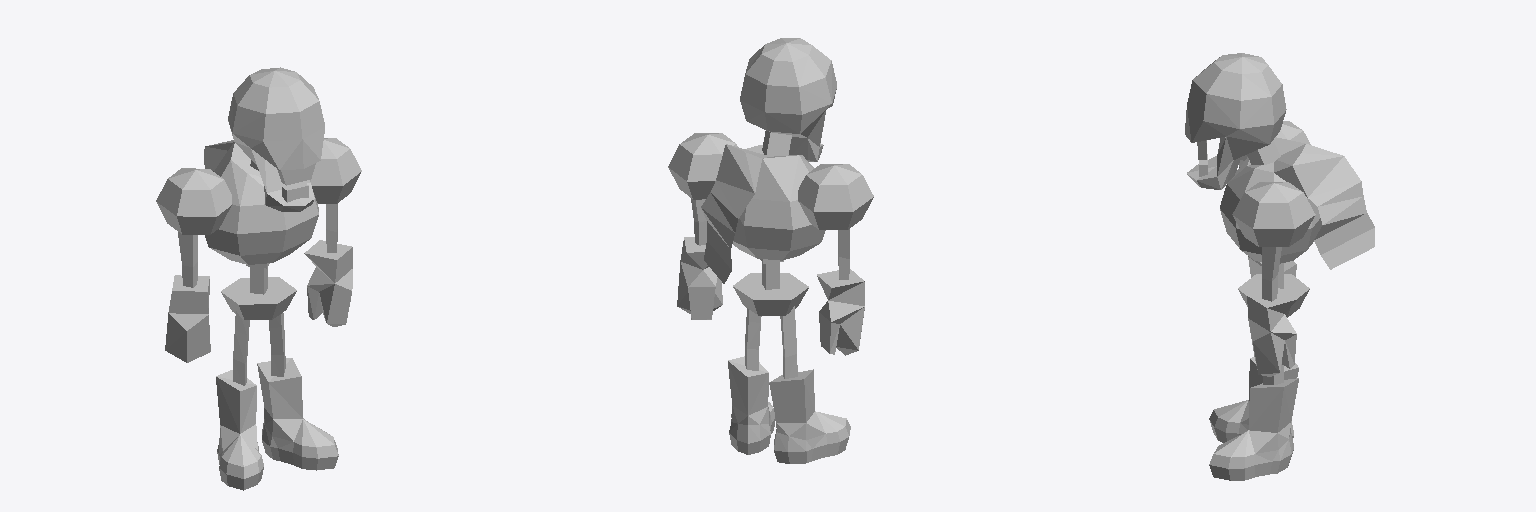
3 views of the same model, side by side, from view 1: azimuth 30°, elevation 25°; view 2: azimuth 150°, elevation 25°; view 3: azimuth 270°, elevation 25° (orthographic).
Parts seen in each view (by area): view 1: gloves, body, face, belt; view 2: gloves, body, face, belt; view 3: gloves, face, body, belt.
Boxes of the visible parts, box(x1,y1,x2,y2) form: gloves: box(165, 140, 352, 490); body: box(156, 138, 361, 268); face: box(228, 67, 324, 211); belt: box(221, 277, 296, 319); gloves: box(677, 144, 864, 463); body: box(668, 133, 873, 263); face: box(740, 38, 836, 161); belt: box(733, 273, 808, 315); gloves: box(1209, 144, 1374, 480); face: box(1185, 53, 1286, 189); body: box(1220, 121, 1322, 263); belt: box(1238, 274, 1309, 317).
Size of the model in its own units: 59 by 121 by 52.58.